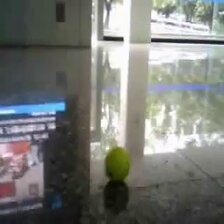tennis: (103, 147, 131, 180)
